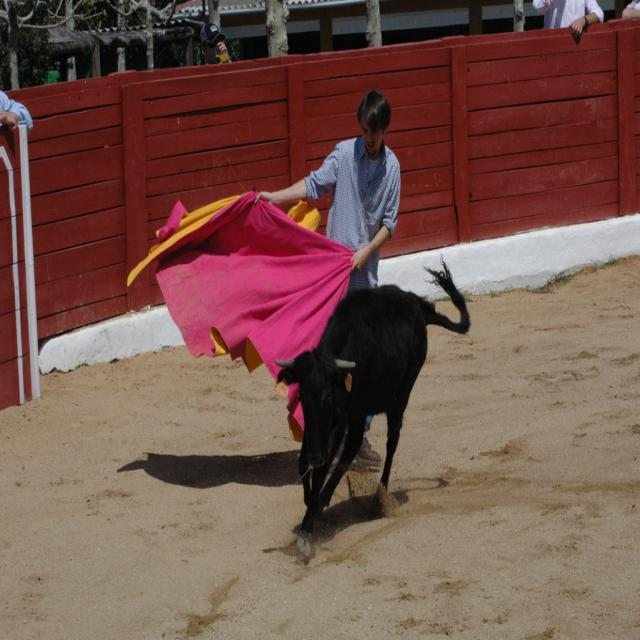Deer: (274, 262, 477, 559)
